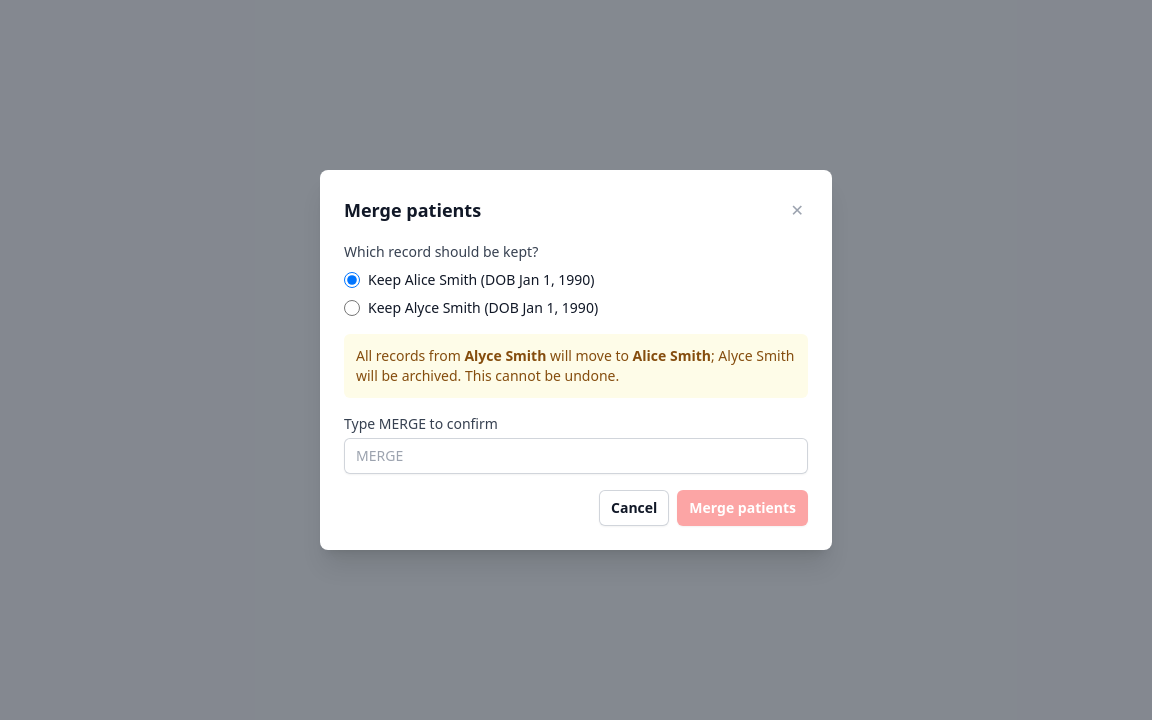
it: MergePatientsModal › keeps the confirm button disabled until MERGE is typed exactly
This screenshot has width=1152, height=720.
Expected: the button "Merge patients" is disabled, [677, 490, 808, 526]
In the field labelled "Type MERGE to confirm": (576, 456) [344, 438, 808, 474], type "merge"
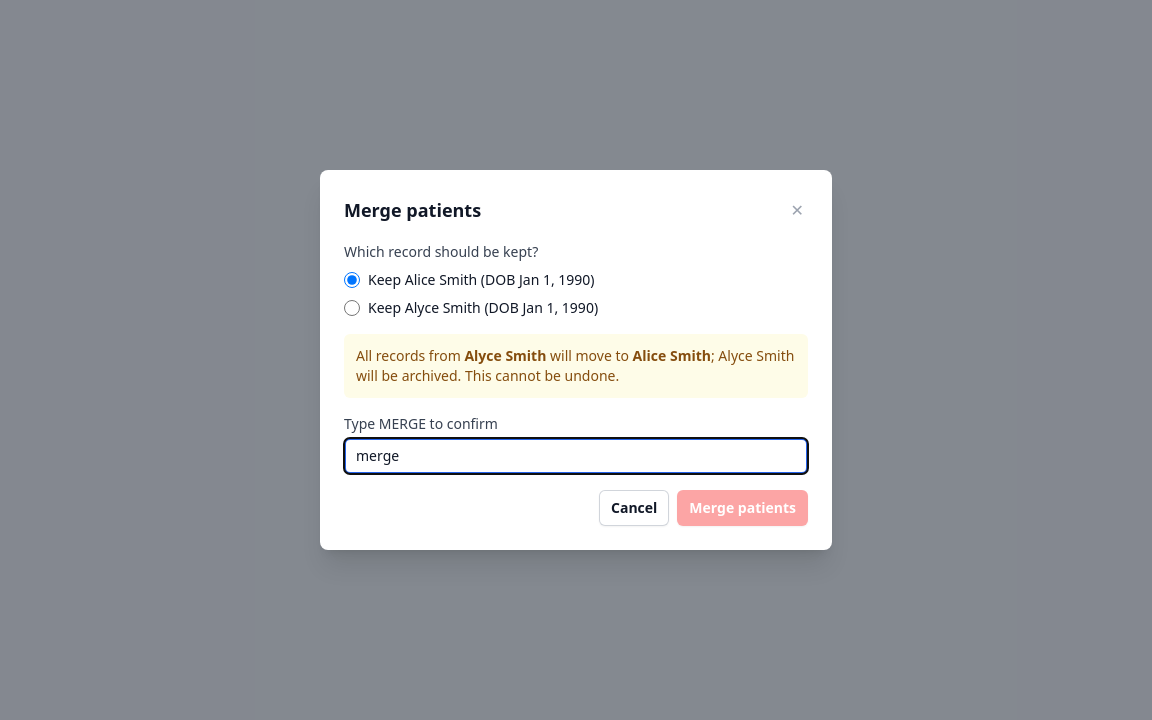
Expected: the button "Merge patients" is disabled, [677, 490, 808, 526]
Replace the text in the field labelled "Type MERGE to confirm" with "MERGE": (576, 456) [344, 438, 808, 474]
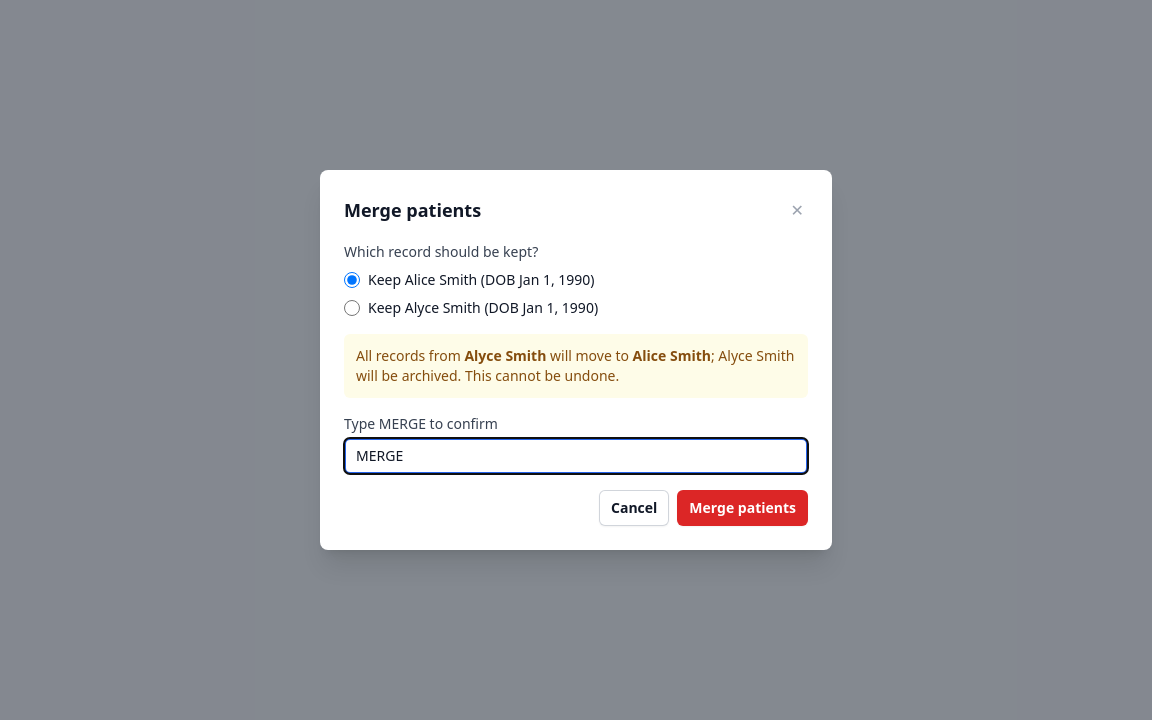
Expected: the button "Merge patients" is enabled, [677, 490, 808, 526]
